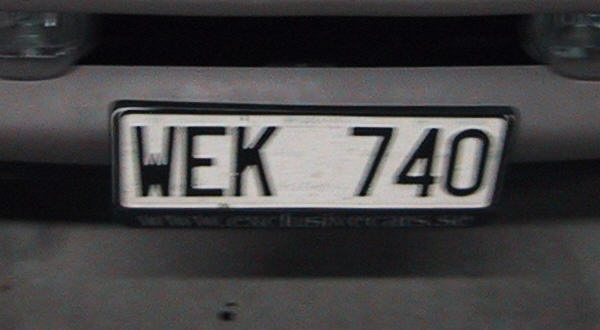license_plate: (112, 108, 514, 214)
